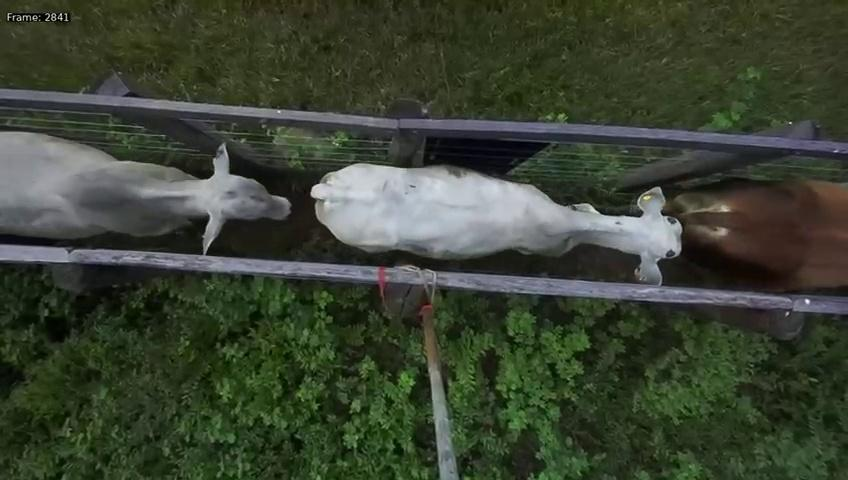cattle: (307, 133, 683, 286), (0, 127, 297, 257)
